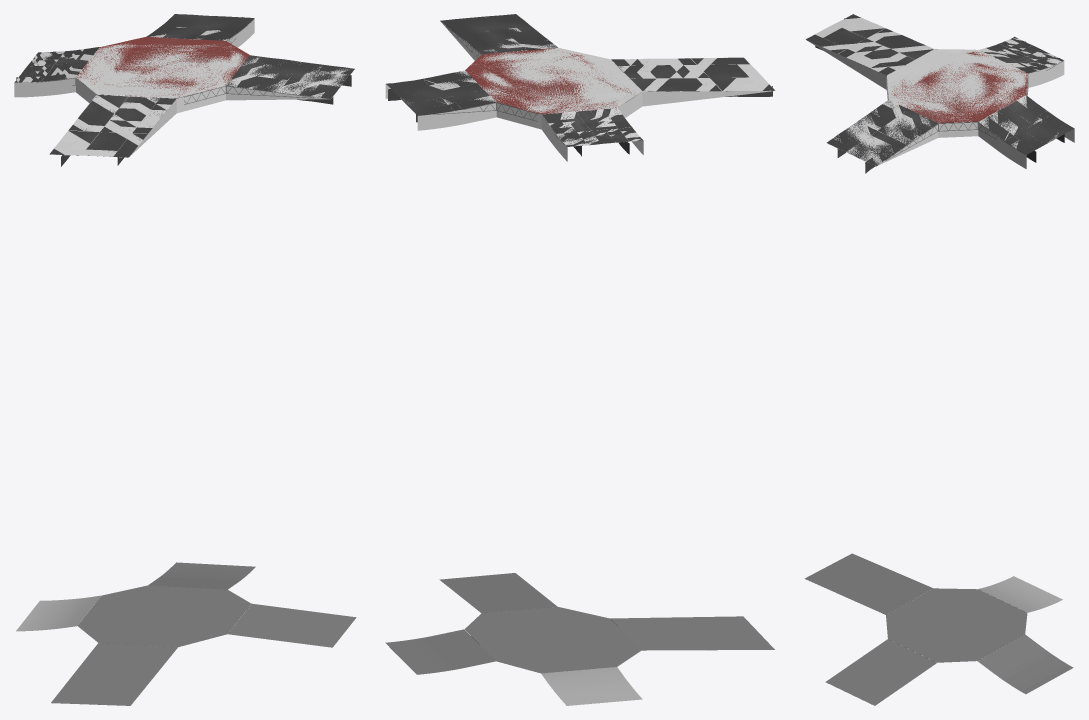
The model's file is derby_crossramp.dae.
The picture shows the model from 3 angles, left to right: view 1: azimuth 30°, elevation 25°; view 2: azimuth 150°, elevation 25°; view 3: azimuth 270°, elevation 25°; orthographic projection. The views are drawn at different scales.
Parts seen in each view (by area): view 1: derby_crossramp, Colmesh-1, derby_crossramp_a100, derby_crossramp_a050; view 2: derby_crossramp, Colmesh-1, derby_crossramp_a100, derby_crossramp_a050; view 3: derby_crossramp, Colmesh-1, derby_crossramp_a100, derby_crossramp_a050.
Part boxes in pixels (<box>): derby_crossramp: <box>16,562,356,705</box>; Colmesh-1: <box>14,14,353,157</box>; derby_crossramp_a100: <box>14,14,354,165</box>; derby_crossramp_a050: <box>16,14,354,166</box>; derby_crossramp: <box>385,573,774,705</box>; Colmesh-1: <box>385,16,775,161</box>; derby_crossramp_a100: <box>385,14,774,154</box>; derby_crossramp_a050: <box>386,14,773,156</box>; derby_crossramp: <box>804,553,1073,705</box>; Colmesh-1: <box>806,14,1074,168</box>; derby_crossramp_a100: <box>806,14,1074,172</box>; derby_crossramp_a050: <box>815,41,1074,173</box>.
Size of the model in its own units: 62.09 by 46.43 by 104.
